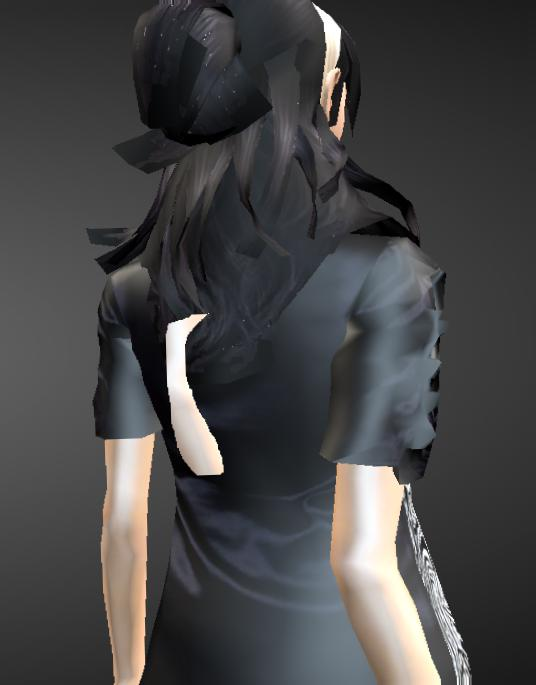clip: (148, 312, 214, 382)
